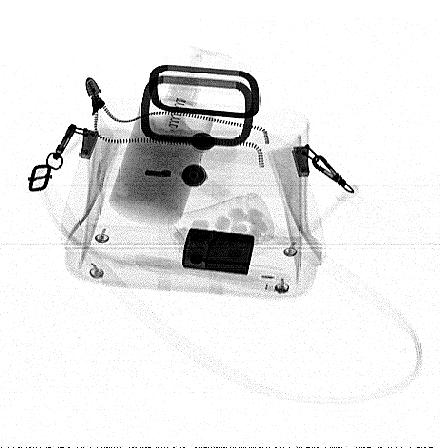Lighter: (181, 229, 256, 276)
